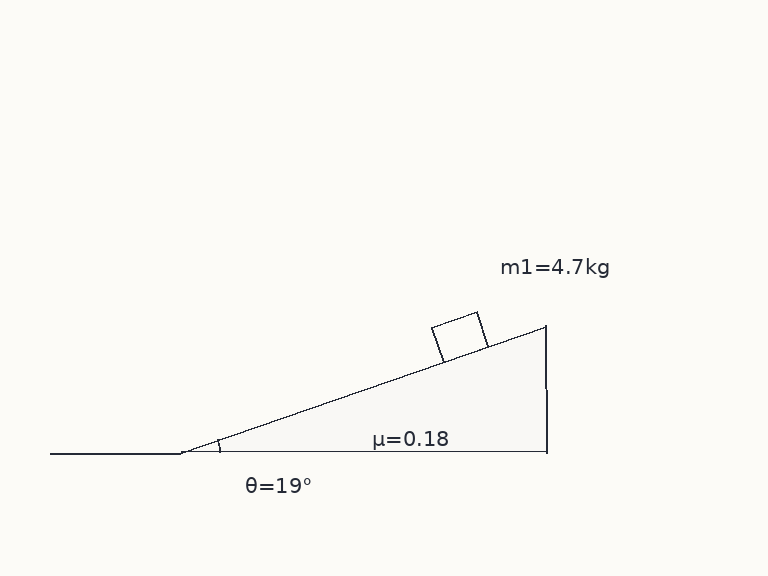block: (429, 310, 491, 364)
ramp: (178, 324, 548, 454)
